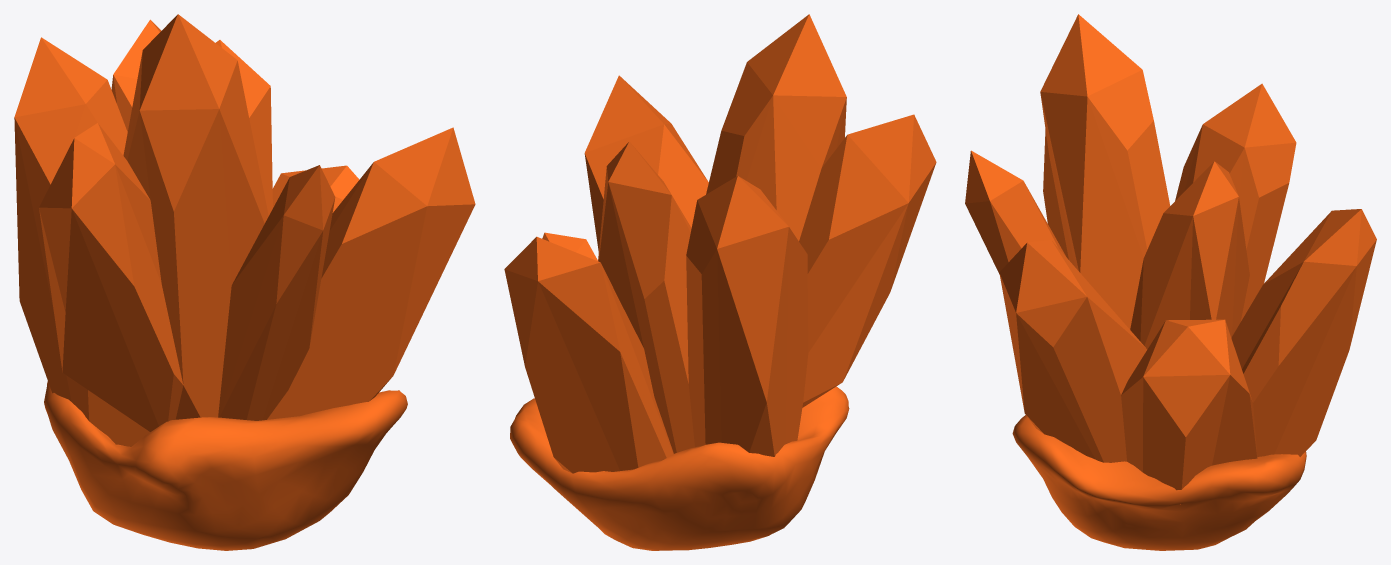
File: Minerai.fbx
The picture shows the model from 3 angles, left to right: view 1: azimuth 30°, elevation 25°; view 2: azimuth 150°, elevation 25°; view 3: azimuth 270°, elevation 25°; orthographic projection. The views are drawn at different scales.
Parts seen in each view (by area): view 1: base.001; view 2: base.001; view 3: base.001.
Boxes of the visible parts, left/top/right/bottom form: base.001: left=14, top=14, right=475, bottom=550; base.001: left=504, top=14, right=936, bottom=550; base.001: left=965, top=14, right=1376, bottom=550.
Bounding box in the file's own units: 218 × 238 × 306.
